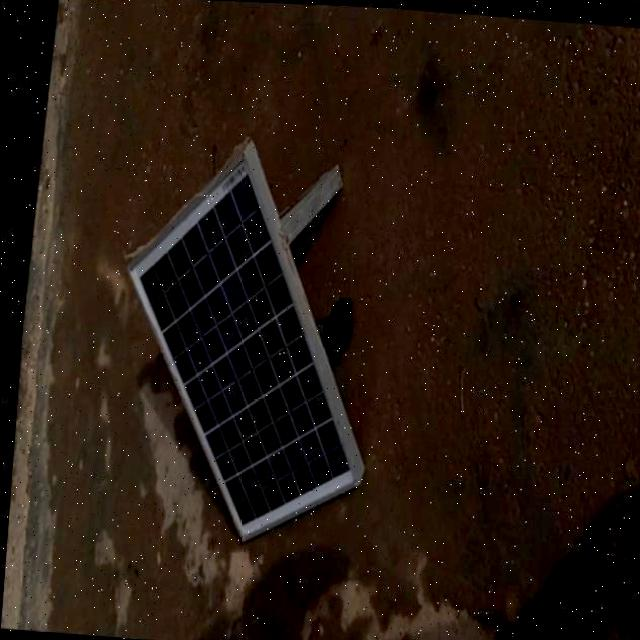Normal Solar Panel: (98, 133, 388, 550)
